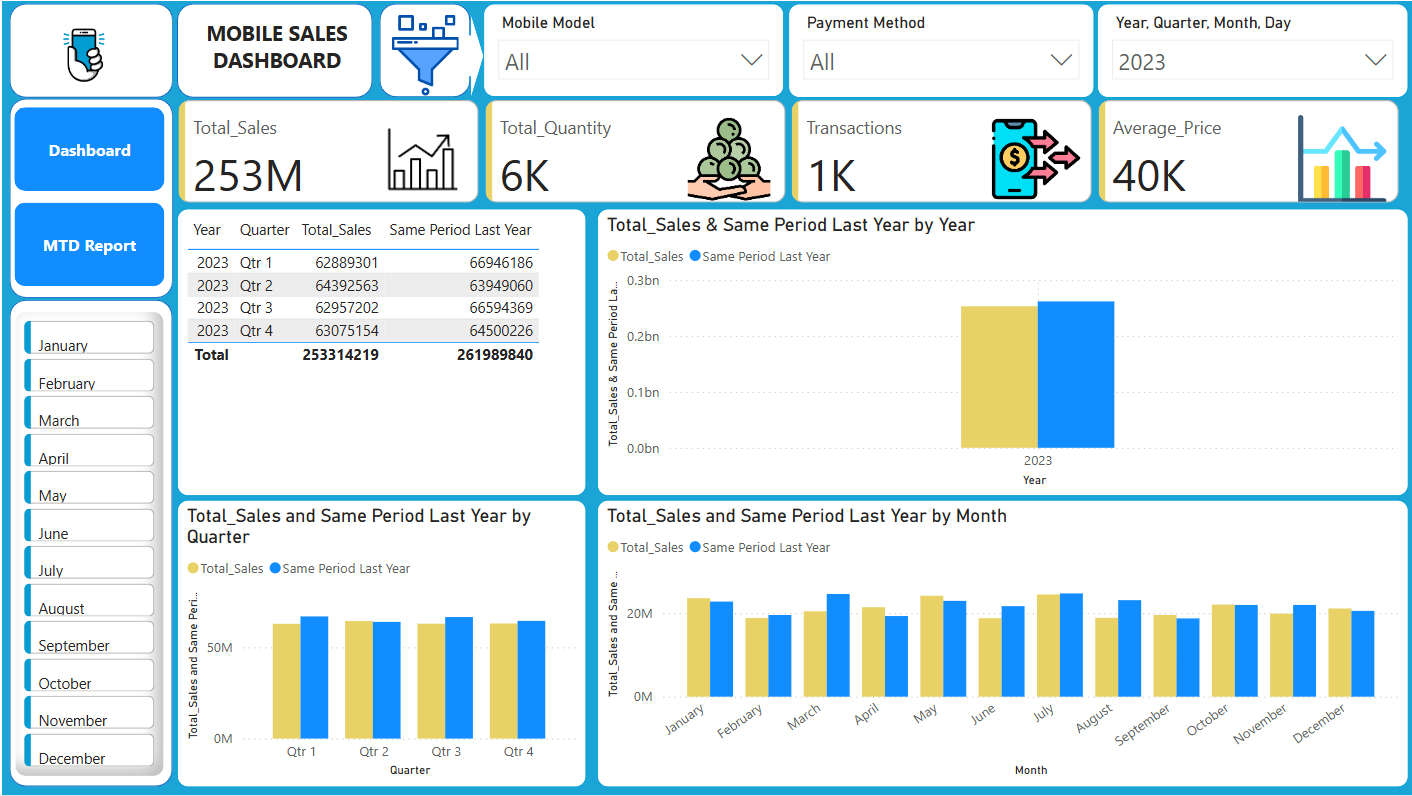

This screenshot's page, from the dashboard's own definition file:
{"tool":"powerbi","page":{"name":"Same Period Last Year","canvas":[1280,720],"ordinal":2},"visuals":[{"type":"shape","box":[7.2,2.4,148.4,85.7],"z":0},{"type":"image","box":[28.8,12.4,92,72.8],"z":1000},{"type":"shape","box":[7.2,88.1,148.4,181],"z":2000},{"type":"cardVisual","fields":{"Data":["Sales_Data.Total_Sales","Sales_Data.Total_Quantity","Sales_Data.Transactions","Sales_Data.Average_Price"]},"box":[155.6,84.5,1119.6,103.8],"z":3000},{"type":"slicer","fields":{"Values":["Sales_Data.Mobile Model"]},"box":[436.6,2.7,273.1,85],"z":4000},{"type":"slicer","fields":{"Values":["Sales_Data.Payment Method"]},"box":[712.6,2.4,277.5,85.7],"z":5000},{"type":"slicer","fields":{"Values":["Custom_Calender.Date.Variation.Date Hierarchy.Year","Custom_Calender.Date.Variation.Date Hierarchy.Quarter","Custom_Calender.Date.Variation.Date Hierarchy.Month","Custom_Calender.Date.Variation.Date Hierarchy.Day"]},"box":[992.9,2.4,282.3,85.7],"z":6000},{"type":"shape","box":[342,2.7,82.3,85],"z":7000},{"type":"image","box":[272,6.9,223.9,85.2],"z":8000},{"type":"shape","box":[413.8,12.1,22.9,74.8],"z":9000},{"type":"shape","box":[159.3,2.4,177.3,85.7],"z":10000},{"type":"textbox","box":[166.5,10.9,165.3,66.4],"z":11000},{"type":"shape","box":[7.2,271.4,148,441.6],"z":12000},{"type":"advancedSlicerVisual","fields":{"Values":["Custom_Calender.Date.Variation.Date Hierarchy.Month"]},"box":[10.9,281.1,136.3,422.3],"z":13000},{"type":"tableEx","fields":{"Values":["Custom_Calender.Date.Variation.Date Hierarchy.Year","Custom_Calender.Date.Variation.Date Hierarchy.Quarter","Sales_Data.Total_Sales","Sales_Data.Same Period Last Year"]},"box":[159.3,188.2,371.6,260.6],"z":14000},{"type":"clusteredColumnChart","title":"Total_Sales & Same Period Last Year by Year","fields":{"Category":["Custom_Calender.Date.Variation.Date Hierarchy.Year","Custom_Calender.Date.Variation.Date Hierarchy.Quarter"],"Y":["Sales_Data.Total_Sales","Sales_Data.Same Period Last Year"]},"box":[539.3,188.2,735.9,261],"z":15000},{"type":"clusteredColumnChart","fields":{"Category":["Custom_Calender.Date.Variation.Date Hierarchy.Year","Custom_Calender.Date.Variation.Date Hierarchy.Quarter"],"Y":["Sales_Data.Total_Sales","Sales_Data.Same Period Last Year"]},"box":[159.3,452.4,371.6,260.6],"z":16000},{"type":"clusteredColumnChart","fields":{"Y":["Sales_Data.Total_Sales","Sales_Data.Same Period Last Year"],"Category":["Custom_Calender.Date.Variation.Date Hierarchy.Year","Custom_Calender.Date.Variation.Date Hierarchy.Quarter","Custom_Calender.Date.Variation.Date Hierarchy.Month","Custom_Calender.Date.Variation.Date Hierarchy.Day"]},"box":[539.3,452.4,735.9,260.6],"z":17000},{"type":"pageNavigator","box":[10.9,96.5,136.3,162.9],"z":18000}]}

Visuals, with their boxes in screenshot pixels (x1, y1, x2, y2), scaled from the page's 1280x720 canvas onto the 1412x796 screenshot:
shape: 8 3 172 97
image: 32 14 133 94
shape: 8 97 172 298
cardVisual - Sales_Data.Total_Sales x Sales_Data.Total_Quantity: 172 93 1407 208
slicer - Sales_Data.Mobile Model: 482 3 783 97
slicer - Sales_Data.Payment Method: 786 3 1092 97
slicer - Custom_Calender.Date.Variation.Date Hierarchy.Year x Custom_Calender.Date.Variation.Date Hierarchy.Quarter: 1095 3 1407 97
shape: 377 3 468 97
image: 300 8 547 102
shape: 456 13 482 96
shape: 176 3 371 97
textbox: 184 12 366 85
shape: 8 300 171 788
advancedSlicerVisual - Custom_Calender.Date.Variation.Date Hierarchy.Month: 12 311 162 778
tableEx - Custom_Calender.Date.Variation.Date Hierarchy.Year x Custom_Calender.Date.Variation.Date Hierarchy.Quarter: 176 208 586 496
"Total_Sales & Same Period Last Year by Year" clusteredColumnChart: 595 208 1407 497
clusteredColumnChart - Custom_Calender.Date.Variation.Date Hierarchy.Year x Custom_Calender.Date.Variation.Date Hierarchy.Quarter: 176 500 586 788
clusteredColumnChart - Sales_Data.Total_Sales x Sales_Data.Same Period Last Year: 595 500 1407 788
pageNavigator: 12 107 162 287
